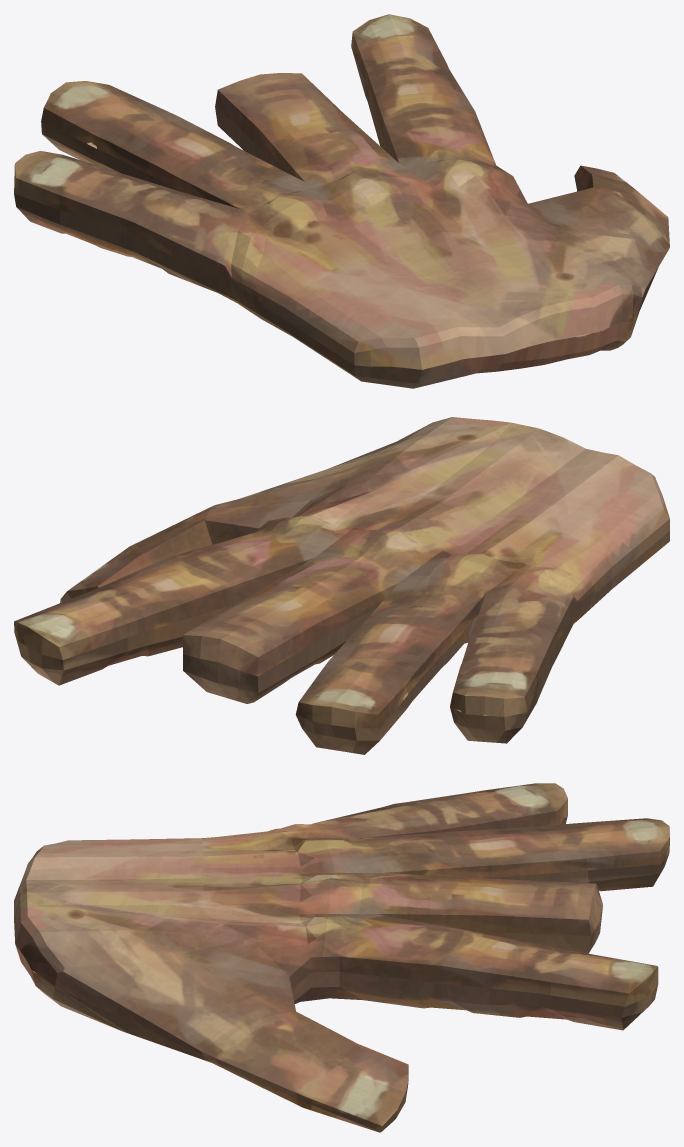
Rendered from Hand_Left01.fbx.
The picture shows the model from 3 angles, top to bottom: view 1: azimuth 30°, elevation 25°; view 2: azimuth 150°, elevation 25°; view 3: azimuth 270°, elevation 25°; orthographic projection. The views are drawn at different scales.
Parts seen in each view (by area): view 1: Hand_left01; view 2: Hand_left01; view 3: Hand_left01.
Boxes of the visible parts, left/top/right/bottom form: Hand_left01: left=14, top=14, right=669, bottom=388; Hand_left01: left=14, top=417, right=669, bottom=754; Hand_left01: left=14, top=783, right=669, bottom=1132.
Bounding box in the file's own units: 0.1875 × 0.0461 × 0.207.
Materials: 1 (1 with a texture image).
